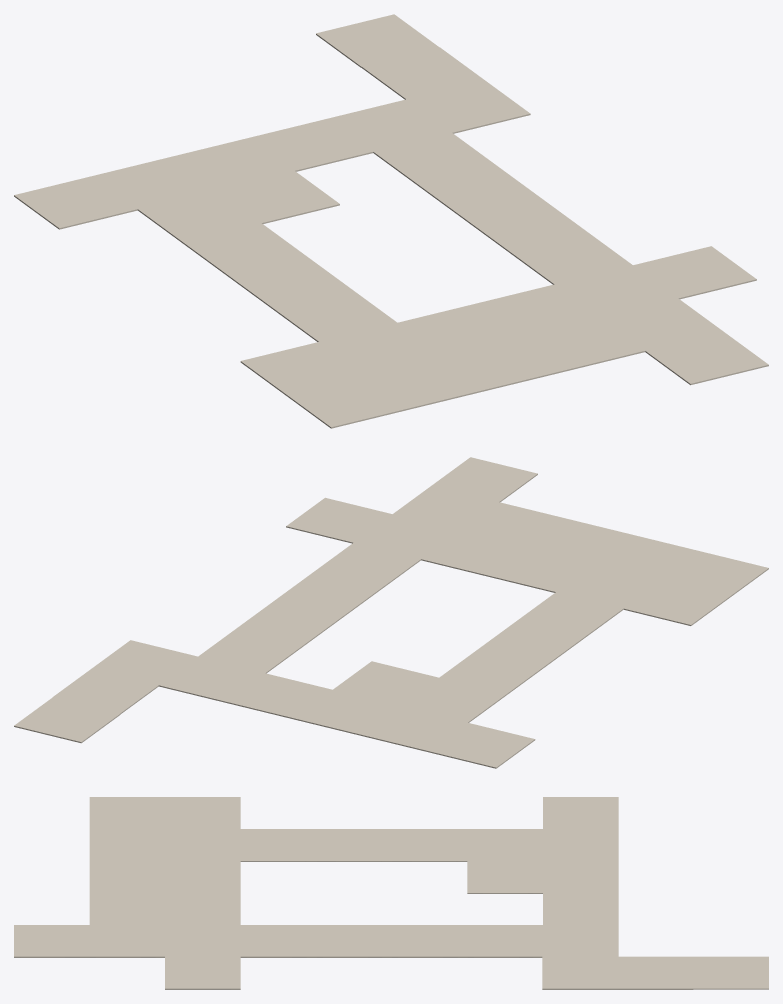
File: Hallway_Floor.fbx
3 renders of one model, top to bottom at view 1: azimuth 30°, elevation 25°; view 2: azimuth 150°, elevation 25°; view 3: azimuth 270°, elevation 25°, orthographic. The views are drawn at different scales.
Visible parts, largest first — view 1: Floor19, Floor13, Floor25, Floor16, Floor18, Floor2, Floor17, Floor29, Floor20, Floor6, Floor1, Floor3 (+17 smaller); view 2: Floor25, Floor1, Floor8, Floor11, Floor2, Floor10, Floor20, Floor26, Floor15, Floor24, Floor13, Floor22 (+17 smaller); view 3: Floor1, Floor29, Floor20, Floor27, Floor5, Floor7, Floor22, Floor23, Floor6, Floor28, Floor3, Floor4 (+17 smaller).
Part boxes in pixels (x1,y1,x2,y2): Floor19: (645,331,768,385); Floor13: (286,375,409,428); Floor25: (14,176,137,229); Floor16: (522,317,645,370); Floor18: (365,356,488,409); Floor2: (250,118,373,171); Floor17: (443,336,566,390); Floor29: (407,80,530,133); Floor20: (633,246,756,299); Floor6: (216,171,339,223); Floor1: (316,14,439,67); Floor3: (464,199,586,252); Floor25: (428,723,535,768); Floor1: (14,697,120,743); Floor8: (623,580,729,625); Floor11: (488,547,594,592); Floor2: (226,673,332,719); Floor10: (421,530,527,576); Floor20: (286,497,392,543); Floor26: (293,690,399,735); Floor15: (361,706,467,752); Floor24: (158,657,264,702); Floor13: (663,551,768,597); Floor22: (439,649,545,694); Floor1: (693,956,768,989); Floor29: (542,956,617,989); Floor20: (165,956,240,989); Floor27: (618,956,693,989); Floor5: (240,925,316,957); Floor7: (240,829,316,861); Floor22: (391,829,467,861); Floor23: (391,925,467,957); Floor6: (467,861,542,893); Floor28: (467,925,542,957); Floor3: (316,925,391,957); Floor4: (316,829,391,861).
Size of the model in its own units: 3600 by 10 by 5995.
